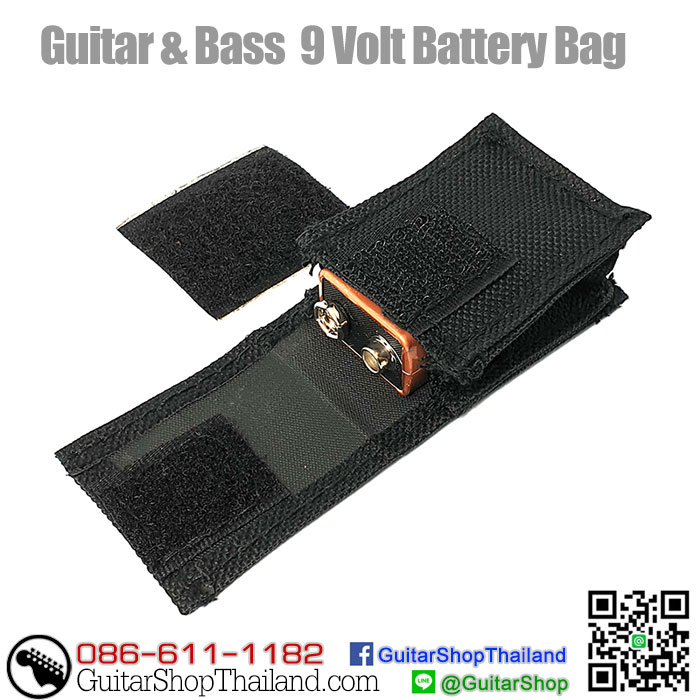Battery: (308, 267, 430, 399)
